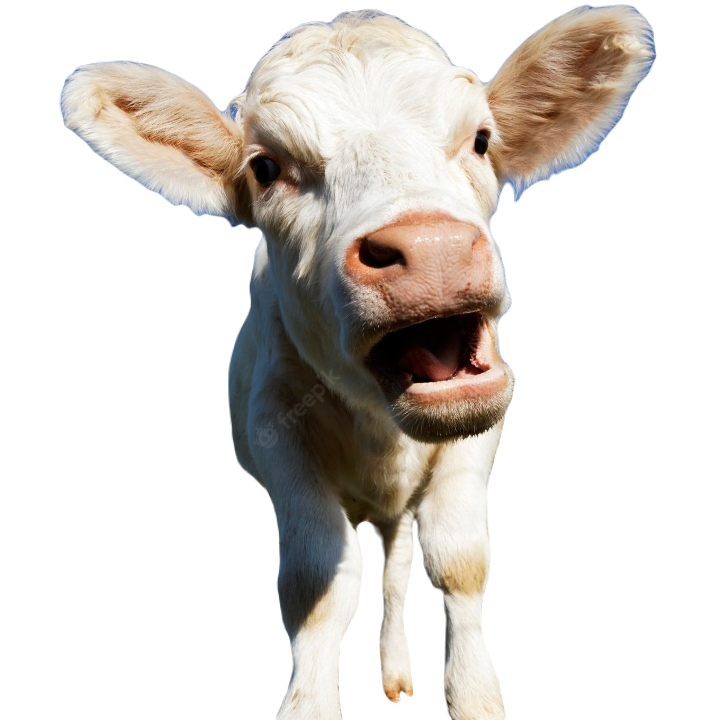Cow: (57, 5, 662, 719)
